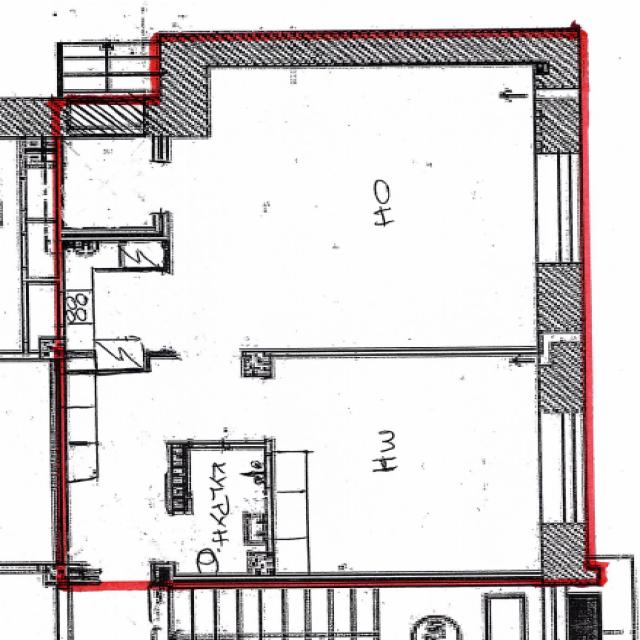door: (265, 378, 345, 438), (152, 162, 231, 212), (116, 513, 190, 559), (99, 572, 150, 622)
